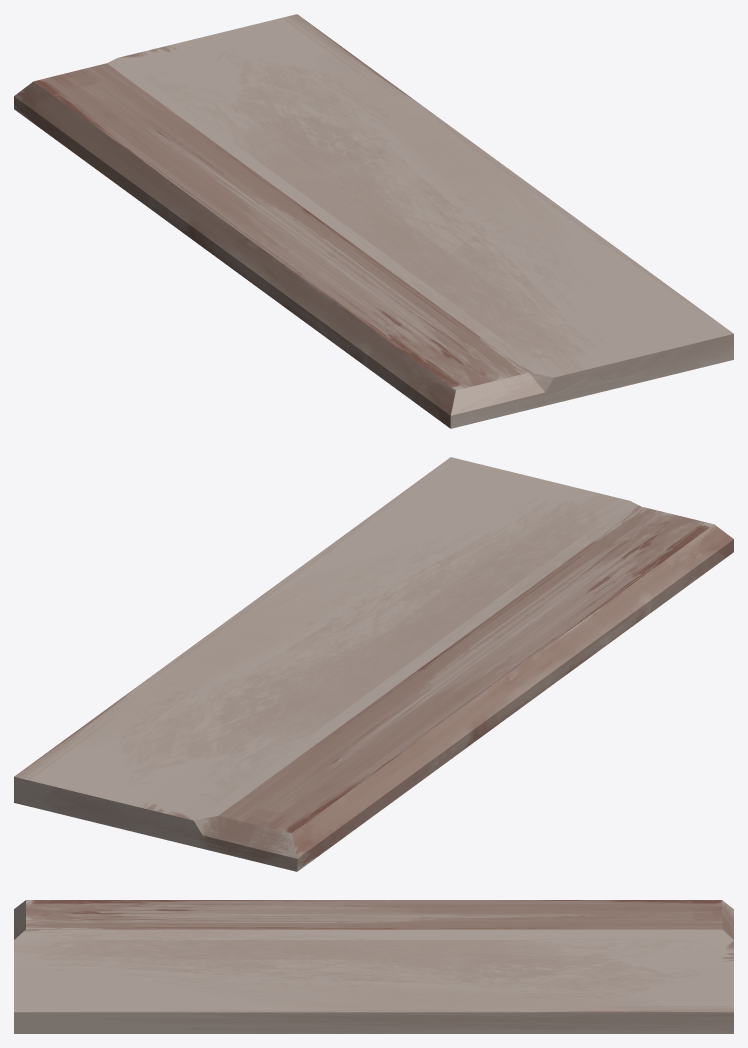
Rendered from Plank_Variant.fbx.
3 renders of one model, top to bottom at view 1: azimuth 30°, elevation 25°; view 2: azimuth 150°, elevation 25°; view 3: azimuth 270°, elevation 25°, orthographic. The views are drawn at different scales.
Visible parts, largest first — view 1: Plank_Variant1:Plank_Variant1:pCube1; view 2: Plank_Variant1:Plank_Variant1:pCube1; view 3: Plank_Variant1:Plank_Variant1:pCube1.
Part boxes in pixels (x1,y1,x2,y2): Plank_Variant1:Plank_Variant1:pCube1: (14,14,733,428); Plank_Variant1:Plank_Variant1:pCube1: (14,457,733,871); Plank_Variant1:Plank_Variant1:pCube1: (14,900,733,1033).
Size of the model in its own units: 6.19 by 0.6285 by 16.52.
